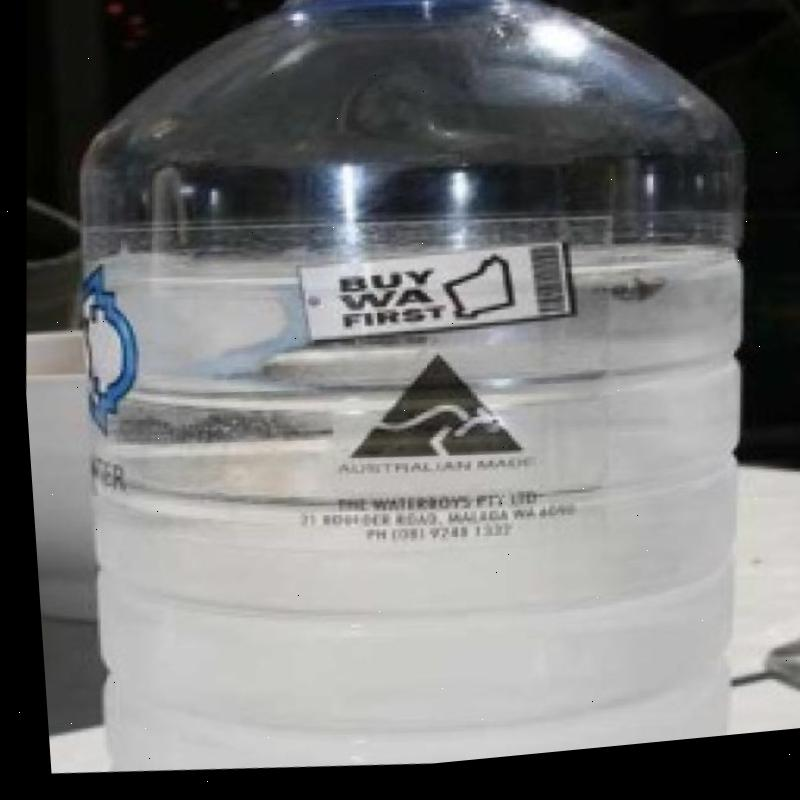botella: (24, 0, 789, 798)
